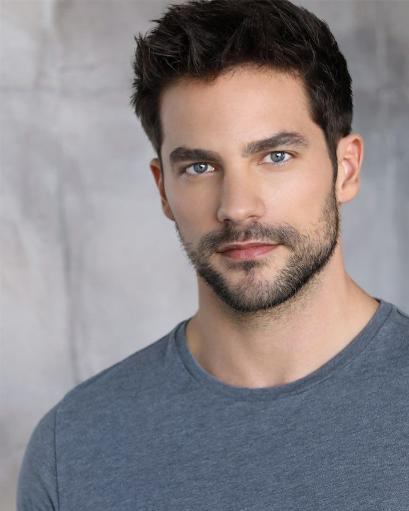left_eye: (255, 146, 304, 169)
left_lip_corner: (267, 229, 288, 260)
right_eye: (176, 160, 227, 181)
right_lip_corner: (209, 241, 238, 265)
